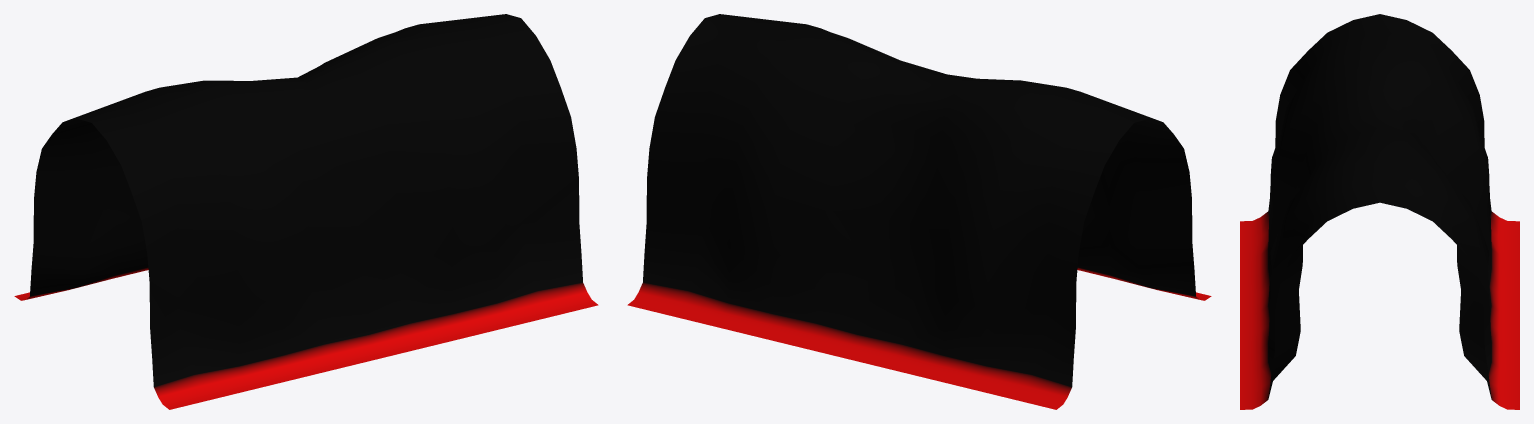
Rendered from GroundObject04B.fbx.
3 renders of one model, left to right at view 1: azimuth 30°, elevation 25°; view 2: azimuth 150°, elevation 25°; view 3: azimuth 270°, elevation 25°, orthographic. The views are drawn at different scales.
Visible parts, largest first — view 1: GroundObject04B; view 2: GroundObject04B; view 3: GroundObject04B.
Boxes of the visible parts, box(x1,y1,x2,y2) form: GroundObject04B: box(14, 14, 598, 409); GroundObject04B: box(627, 14, 1211, 409); GroundObject04B: box(1240, 14, 1519, 409).
Size of the model in its own units: 2 by 1.05 by 1.25.
